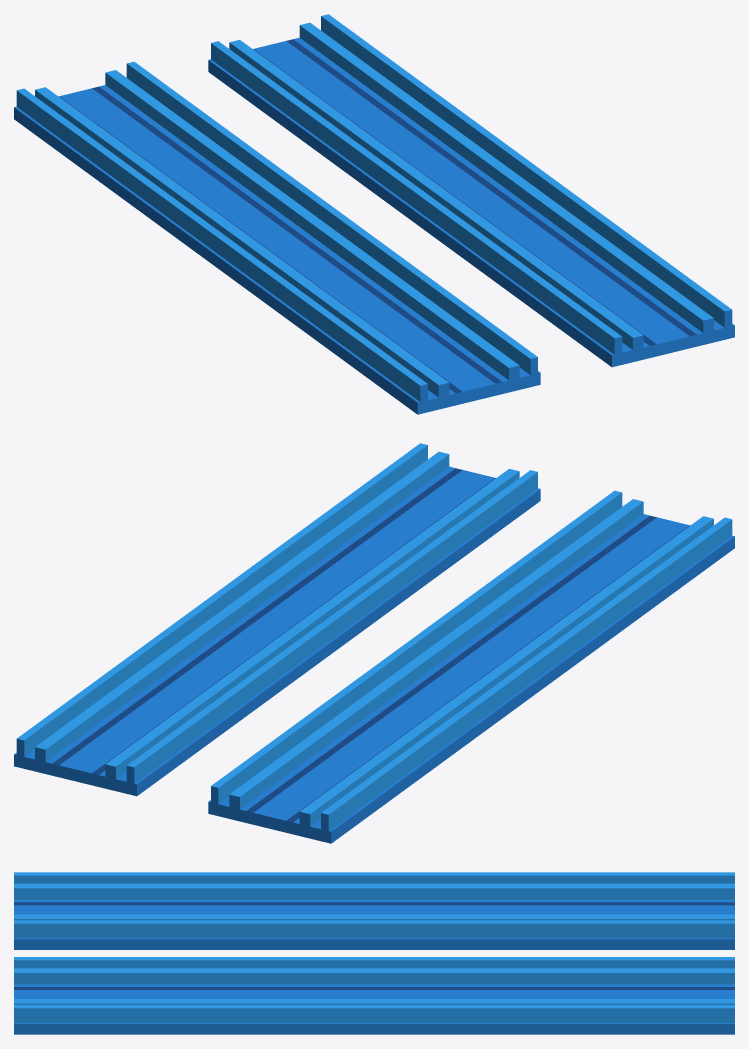
Rendered from Track_Double_Straight.fbx.
The picture shows the model from 3 angles, top to bottom: view 1: azimuth 30°, elevation 25°; view 2: azimuth 150°, elevation 25°; view 3: azimuth 270°, elevation 25°; orthographic projection. The views are drawn at different scales.
Parts seen in each view (by area): view 1: Bed.001, Bed; view 2: Bed.001, Bed; view 3: Bed, Bed.001.
Boxes of the visible parts, x1,y1,x2,y2 form: Bed.001: [14, 61, 540, 414]; Bed: [208, 14, 734, 367]; Bed.001: [208, 490, 734, 843]; Bed: [14, 443, 540, 796]; Bed: [14, 957, 734, 1034]; Bed.001: [14, 872, 734, 949].
Size of the model in its own units: 272 by 23.21 by 600.
